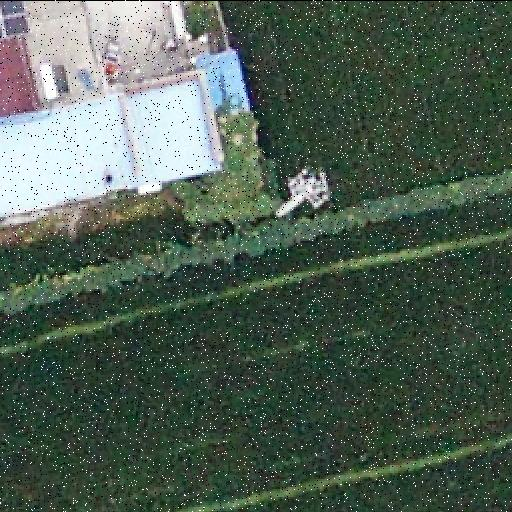solar-panel: (1, 1, 31, 39)
